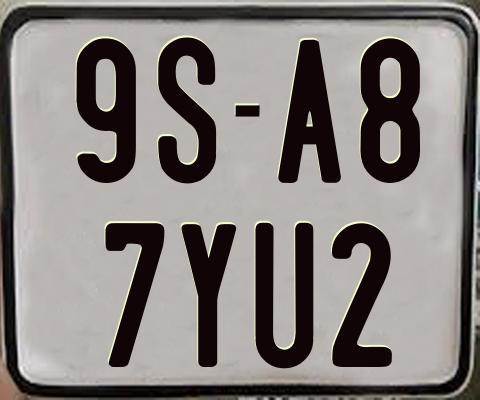2: (331, 221, 394, 366)
7: (103, 223, 169, 370)
8: (358, 37, 419, 188)
9: (74, 37, 136, 183)
A: (275, 37, 341, 183)
S: (157, 34, 216, 183)
U: (252, 223, 314, 372)
Y: (181, 221, 241, 369)
